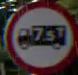Heavy Vehicles: (4, 1, 77, 72)
